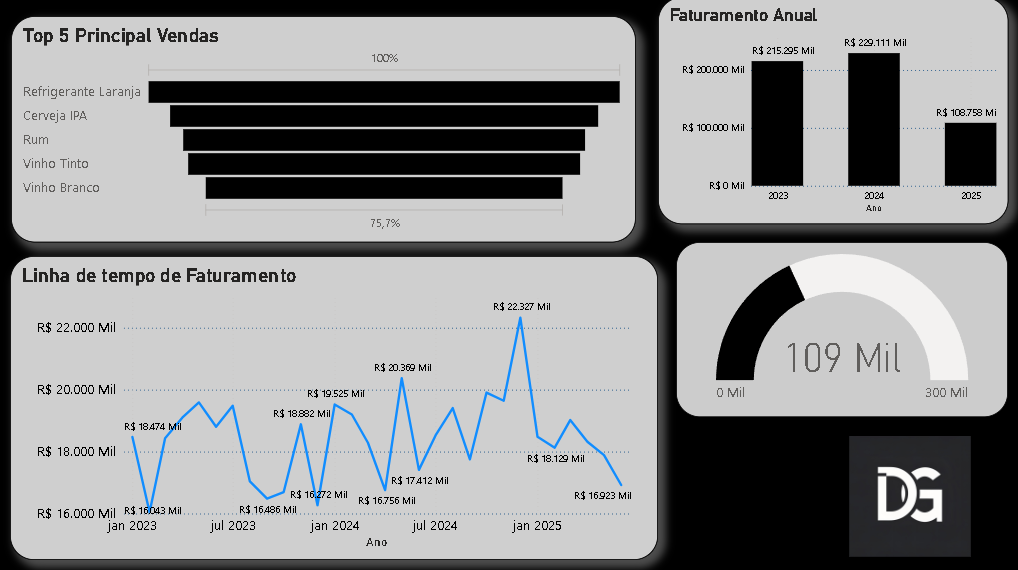

Layout of this report page (visuals, bound fields, positions):
{"tool":"powerbi","page":{"name":"Página 2","canvas":[1280,720],"ordinal":1},"visuals":[{"type":"lineChart","title":"Linha de tempo de Faturamento","fields":{"Category":["Fato_Vendas_Atacado/Varejo.Data da venda.Variation.Hierarquia de datas.Ano","Fato_Vendas_Atacado/Varejo.Data da venda.Variation.Hierarquia de datas.Mês"],"Y":["Fato_Vendas_Atacado/Varejo.Valor Total de Vendas"]},"box":[13.8,323.8,810,380],"z":0},{"type":"image","box":[1013.6,543.2,250,161.4],"z":1000},{"type":"columnChart","title":"Faturamento Anual","fields":{"Category":["Fato_Vendas_Atacado/Varejo.Data da venda.Variation.Hierarquia de datas.Ano"],"Y":["Fato_Vendas_Atacado/Varejo.Valor Total de Vendas"]},"box":[824,0,438,284],"z":2000},{"type":"funnel","title":"Top 5 Principal Vendas","fields":{"Category":["Dim_Produtos.Nome do produto"],"Y":["Fato_Vendas_Atacado/Varejo.Contagem de Produto"]},"box":[14.9,23.4,780.9,283],"z":3000},{"type":"gauge","fields":{"MaxValue":["Fato_Vendas_Atacado/Varejo.Meta"],"Y":["Fato_Vendas_Atacado/Varejo.6 mês"]},"box":[845.8,306.8,415.3,218.6],"z":4000}]}

Visuals, with their boxes in screenshot pixels (x1, y1, x2, y2), scaled from the page's 1280x720 canvas onto the 1018x570 screenshot:
"Linha de tempo de Faturamento" lineChart: crop(11, 256, 655, 557)
image: crop(806, 430, 1005, 558)
"Faturamento Anual" columnChart: crop(655, 0, 1004, 225)
"Top 5 Principal Vendas" funnel: crop(12, 19, 633, 243)
gauge - Fato_Vendas_Atacado/Varejo.Meta x Fato_Vendas_Atacado/Varejo.6 mês: crop(673, 243, 1003, 416)
